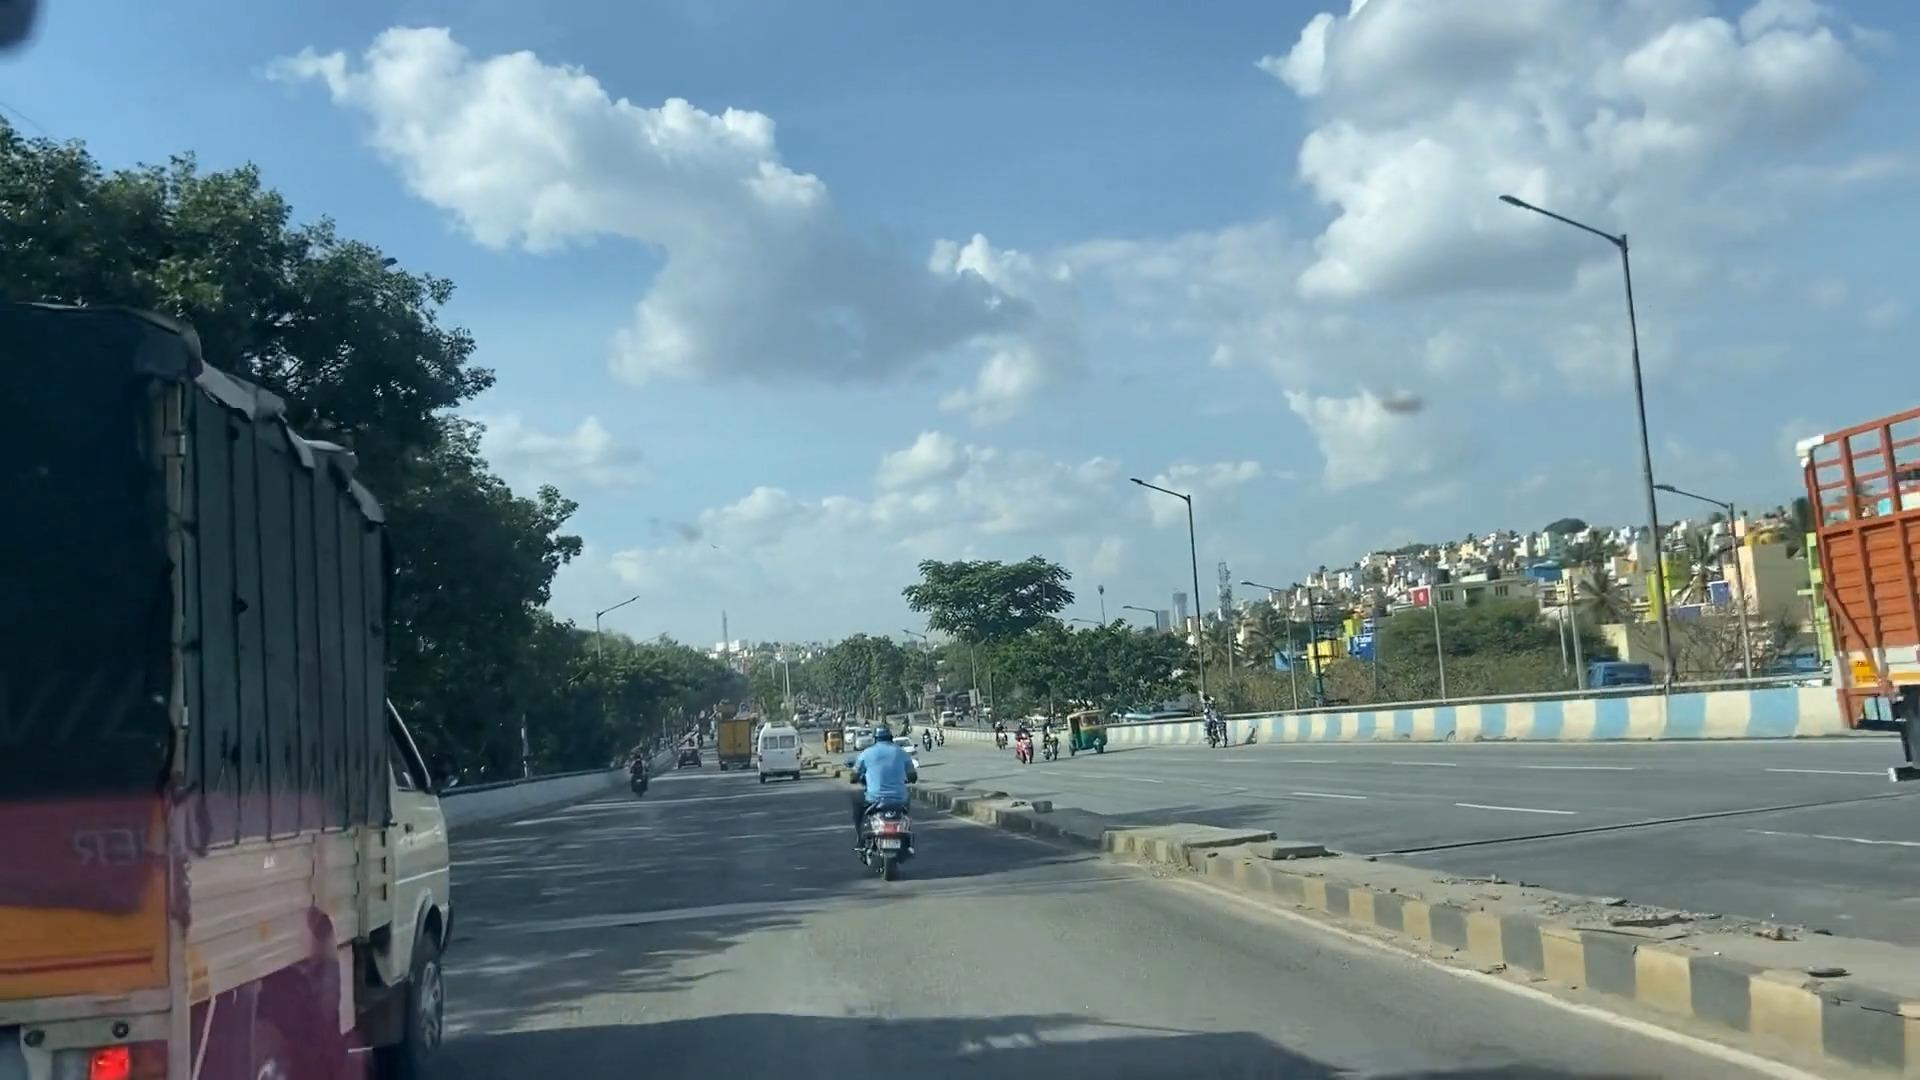HMV: (32, 302, 455, 1080)
LMV: (840, 728, 923, 864)
